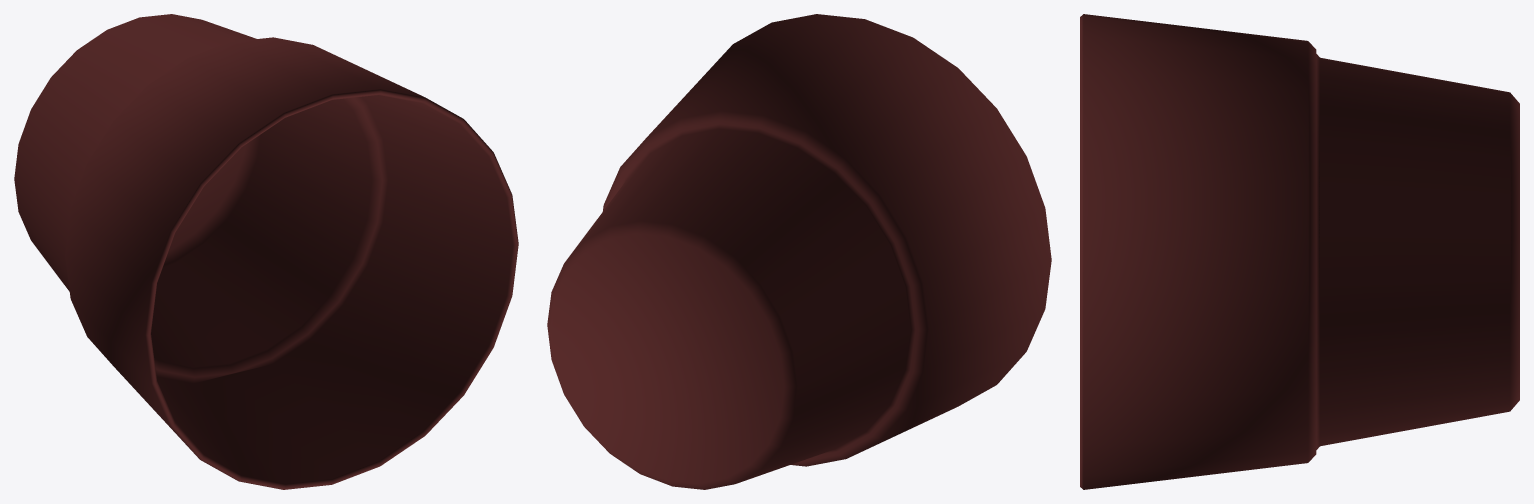
Rendered from model_scale.obj.
The picture shows the model from 3 angles, left to right: view 1: azimuth 30°, elevation 25°; view 2: azimuth 150°, elevation 25°; view 3: azimuth 270°, elevation 25°; orthographic projection. The views are drawn at different scales.
Visible parts, largest first — view 1: mesh1_mesh1-geometry; view 2: mesh1_mesh1-geometry; view 3: mesh1_mesh1-geometry.
Boxes of the visible parts, x1,y1,x2,y2 form: mesh1_mesh1-geometry: (14, 14, 518, 489); mesh1_mesh1-geometry: (547, 14, 1051, 489); mesh1_mesh1-geometry: (1080, 14, 1519, 489).
Size of the model in its own units: 0.1012 by 0.1012 by 0.0932.
